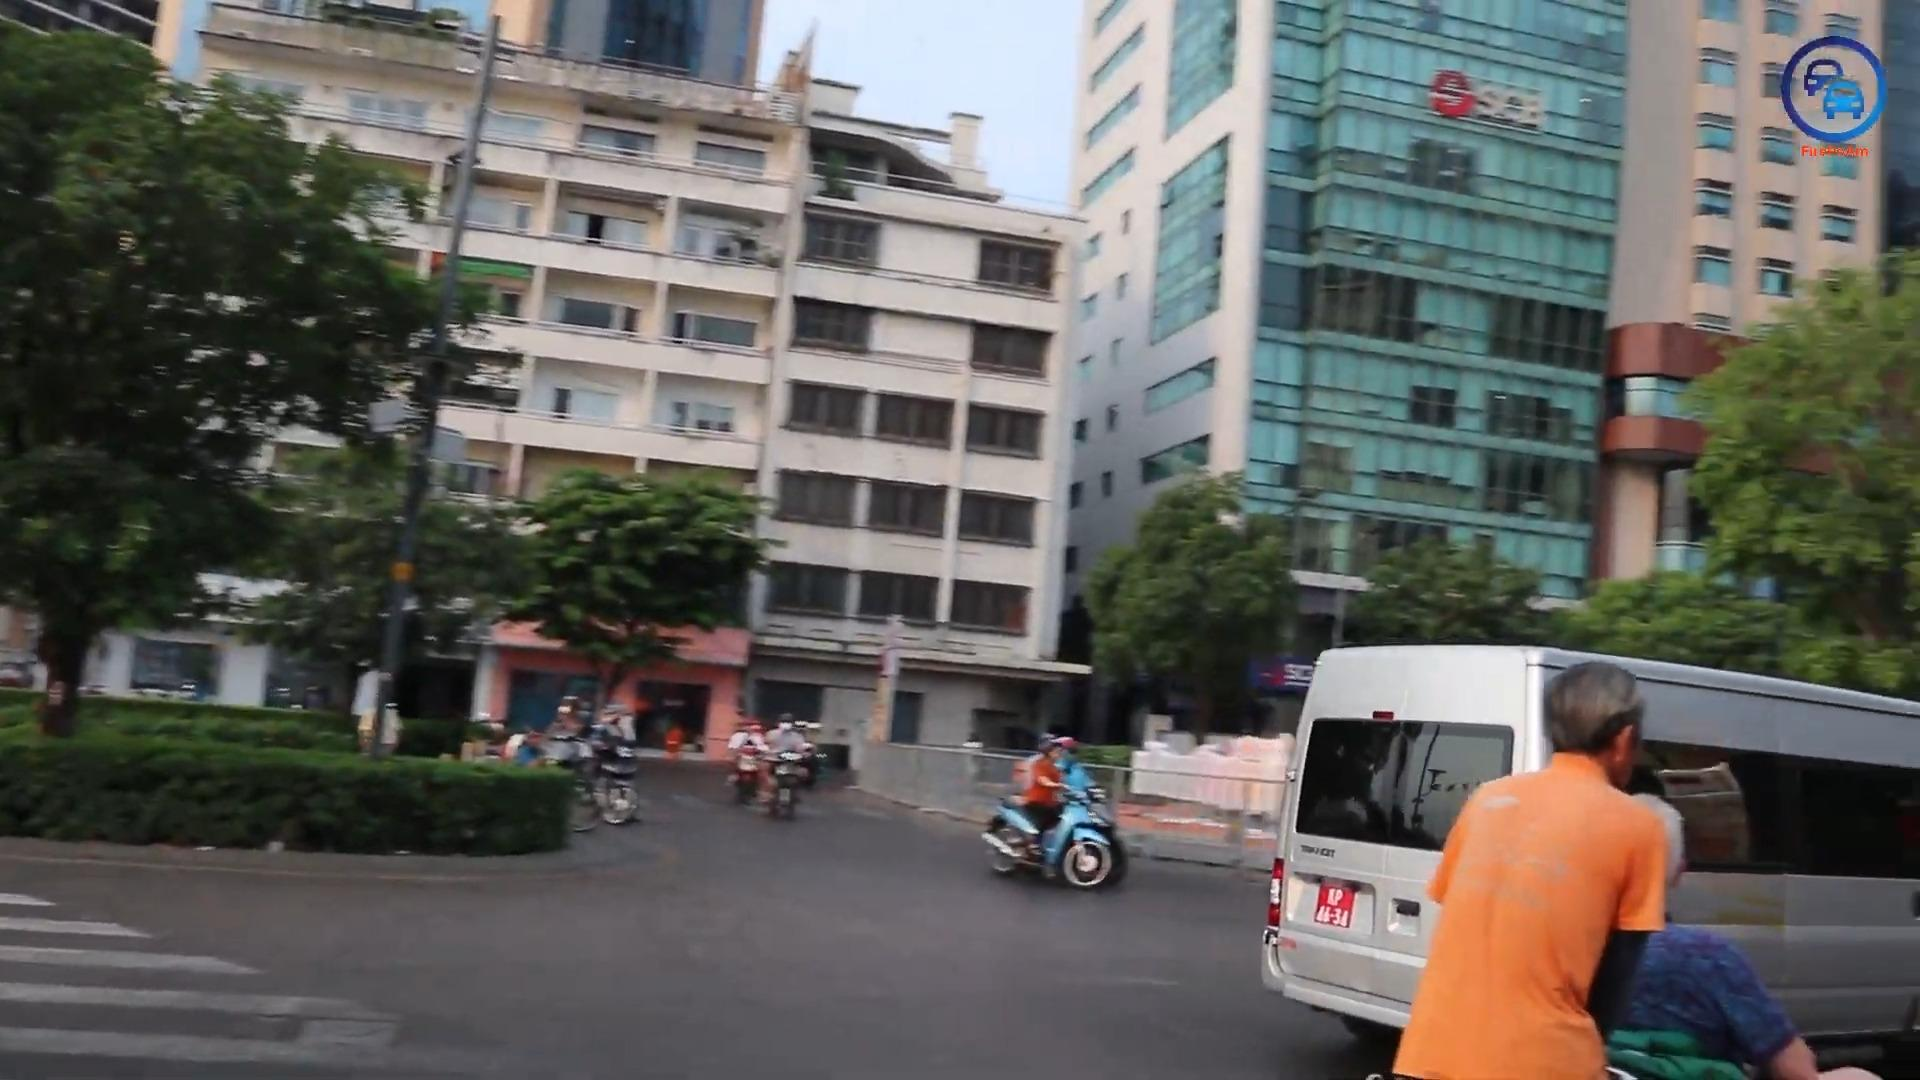bien_so: (1312, 880, 1355, 930)
